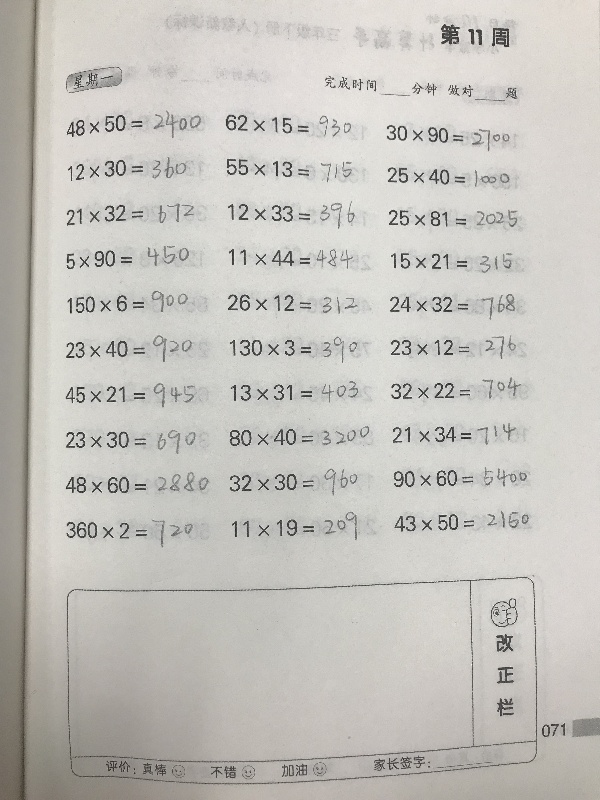equation: (228, 508, 373, 544), (62, 514, 207, 549), (62, 106, 204, 141), (224, 198, 358, 234), (62, 426, 209, 458), (226, 465, 362, 499), (386, 291, 526, 324), (62, 379, 206, 411), (63, 332, 196, 366), (226, 422, 374, 451), (61, 468, 212, 496), (63, 286, 191, 319), (227, 333, 361, 363), (389, 462, 530, 490), (227, 378, 362, 407), (62, 197, 197, 226), (221, 109, 355, 138), (387, 376, 524, 404), (63, 153, 190, 183), (382, 123, 513, 152), (387, 332, 521, 360), (388, 249, 522, 277), (64, 242, 193, 271), (222, 156, 355, 184), (388, 421, 519, 449), (224, 243, 356, 270), (224, 290, 361, 316), (390, 509, 532, 534), (384, 206, 521, 230), (383, 165, 513, 189)
